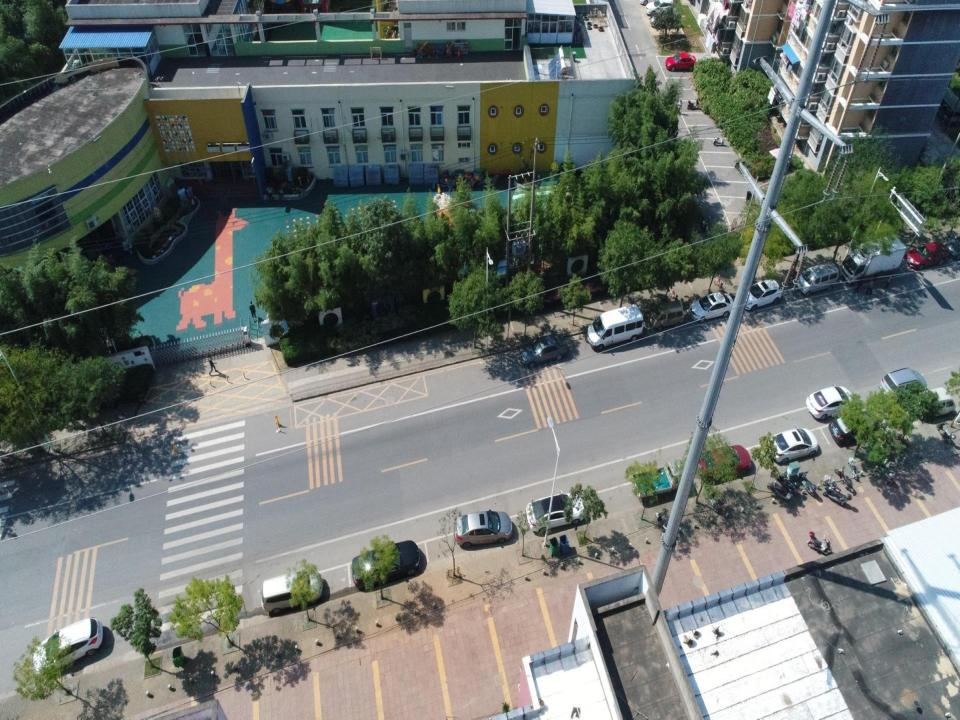car: (33, 617, 103, 675), (352, 540, 419, 590), (526, 490, 586, 536), (261, 570, 323, 614), (455, 510, 512, 550), (699, 444, 752, 482), (766, 426, 819, 464), (828, 409, 880, 445), (805, 385, 857, 420), (879, 367, 927, 402), (688, 291, 733, 323), (742, 278, 783, 312), (664, 50, 696, 74), (650, 10, 678, 27), (646, 0, 672, 16)
truck: (632, 457, 693, 507)
van: (586, 304, 644, 351), (519, 334, 567, 368), (797, 260, 839, 296), (920, 387, 956, 418), (649, 300, 685, 331)
